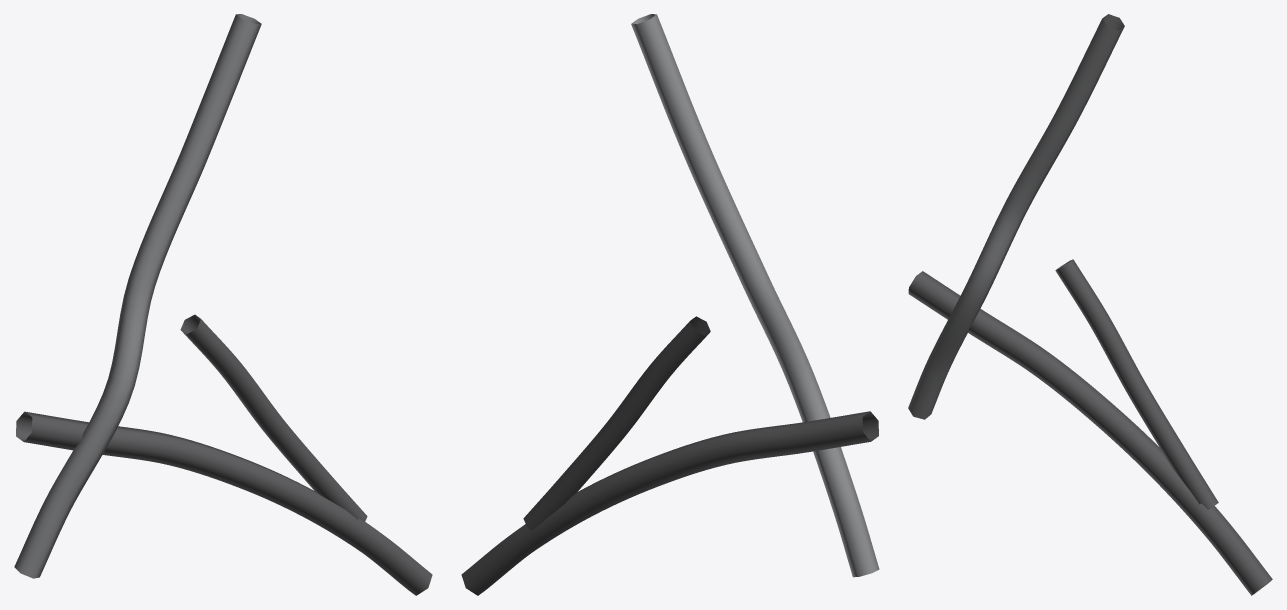
3 renders of one model, left to right at view 1: azimuth 30°, elevation 25°; view 2: azimuth 150°, elevation 25°; view 3: azimuth 330°, elevation 25°, orthographic. The views are drawn at different scales.
Size of the model in its own units: 0.5788 by 0.8317 by 0.0645.
